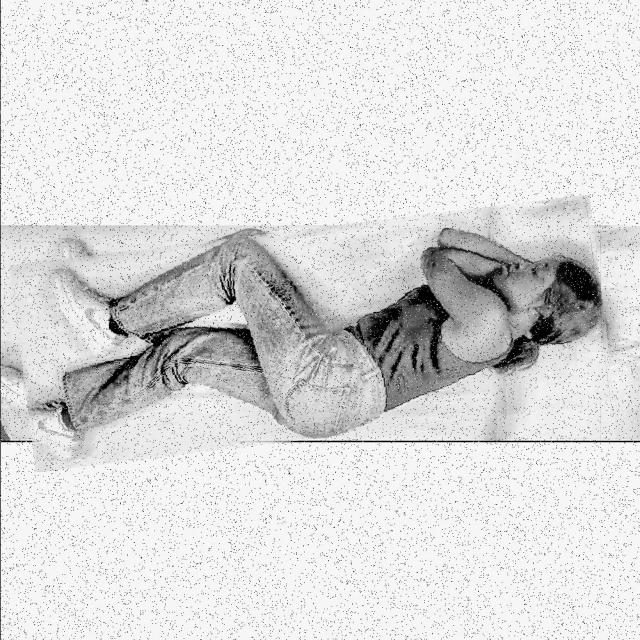Not_Supine: (29, 228, 604, 448)
